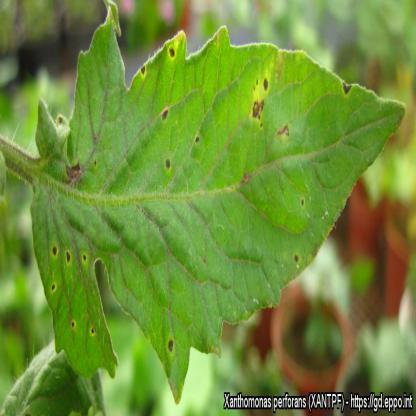Tomato leaf bacterial spot: (29, 24, 404, 385)
